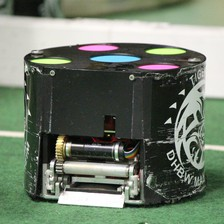robot: (14, 38, 213, 210)
